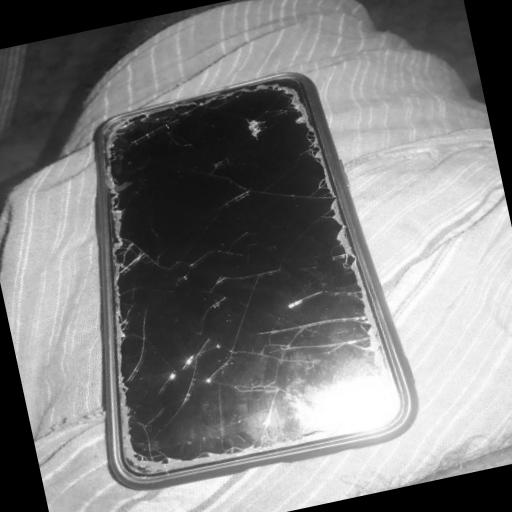phone: (95, 72, 415, 487)
